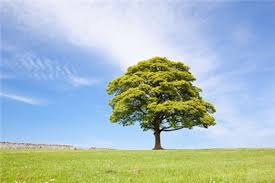tree: (104, 55, 217, 150)
